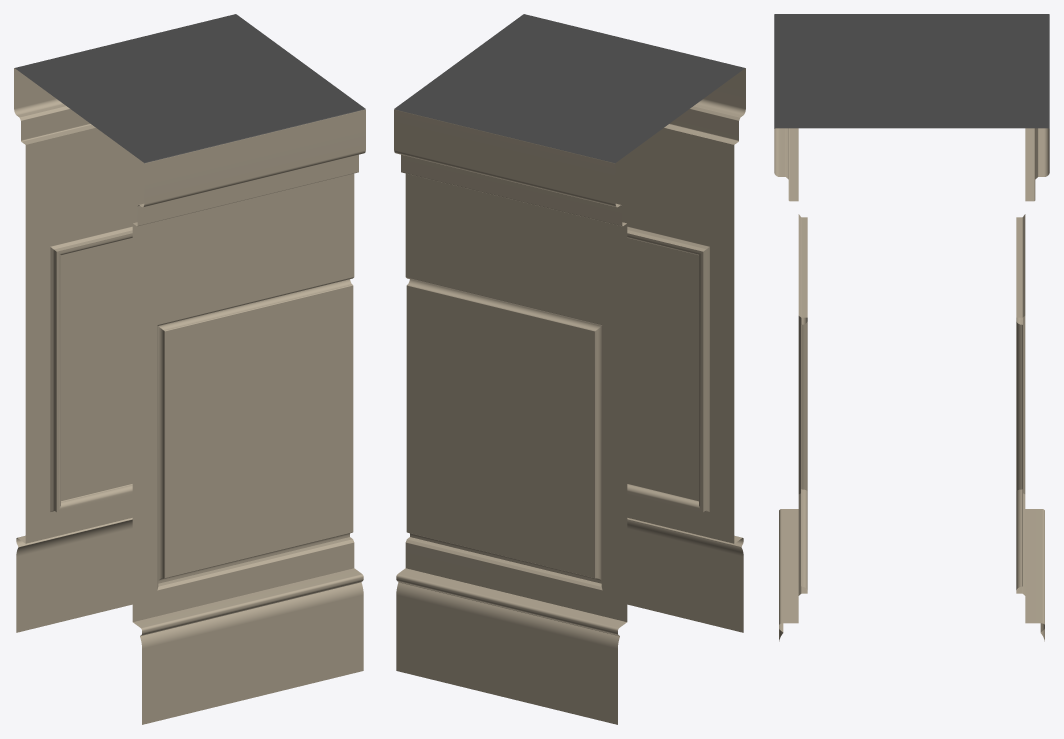
File: Wallset_02.1.06.fbx
3 views of the same model, side by side, from view 1: azimuth 30°, elevation 25°; view 2: azimuth 150°, elevation 25°; view 3: azimuth 270°, elevation 25° (orthographic). The views are drawn at different scales.
Parts seen in each view (by area): view 1: polySurface22; view 2: polySurface22; view 3: polySurface22.
Part boxes in pixels (x1,y1,x2,y2): polySurface22: (14, 14, 365, 724); polySurface22: (394, 14, 745, 724); polySurface22: (774, 14, 1049, 641).
Bounding box in the file's own units: 100 × 243 × 102.
